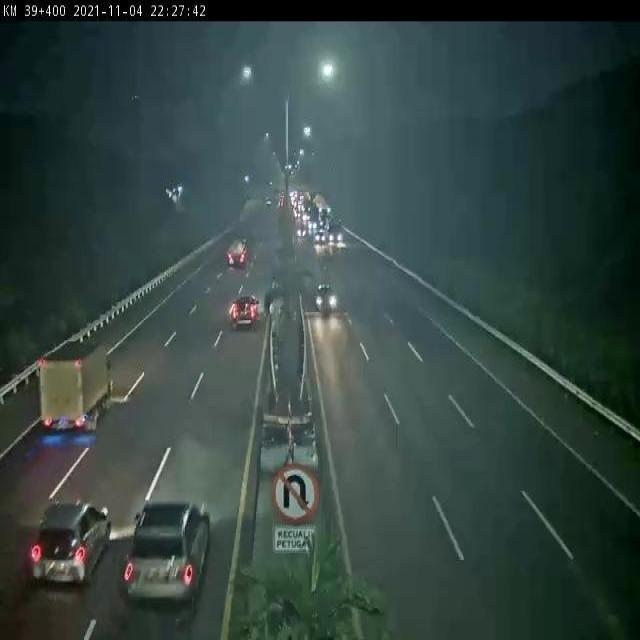Car: (121, 502, 218, 610), (29, 502, 114, 592), (227, 295, 258, 327), (314, 283, 340, 312), (314, 233, 328, 245)
Truck: (37, 332, 112, 436), (225, 236, 250, 268), (327, 223, 344, 245)
